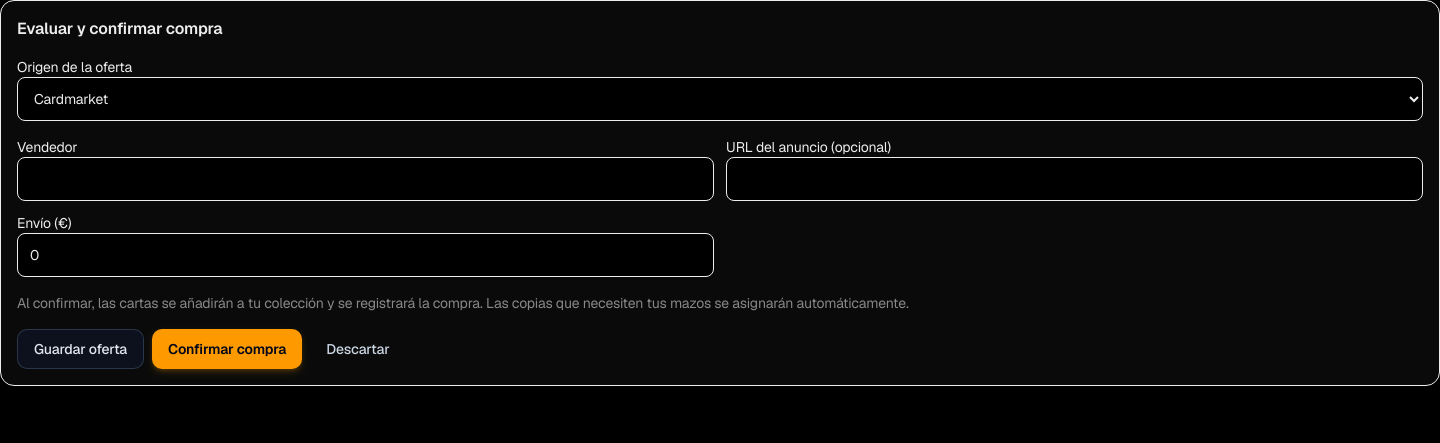
purchase navigation and confirmation › shows a recoverable error when the server cannot prepare the review
What coordinates should you click on to do the following:
click the button "Confirmar compra"
I would click on:
 (227, 349)
Its box is [152,329,302,369].
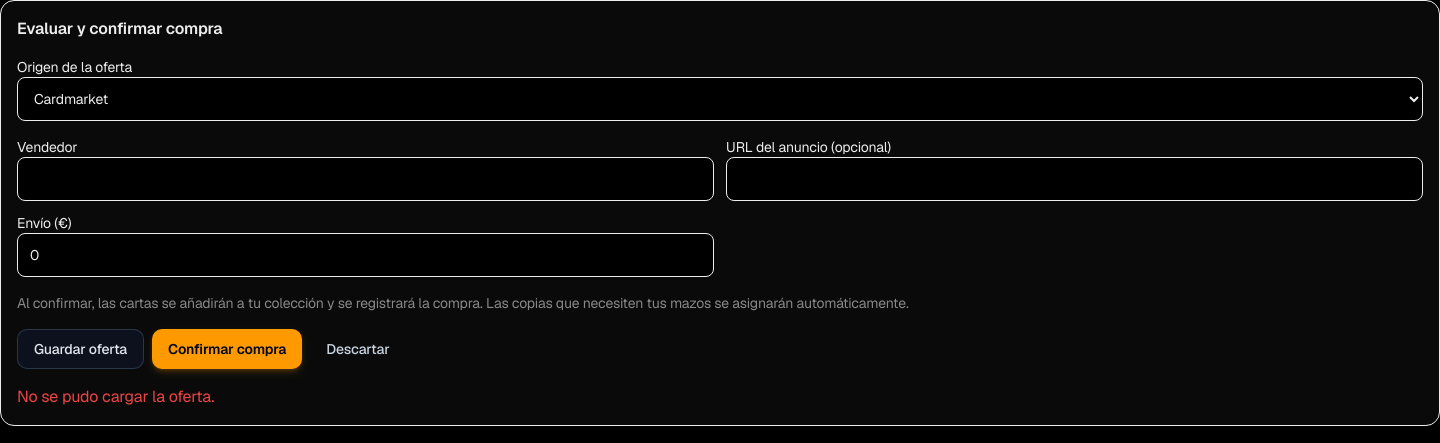
Check: the message reads "No se pudo cargar la oferta.", box [17,386,214,407]
